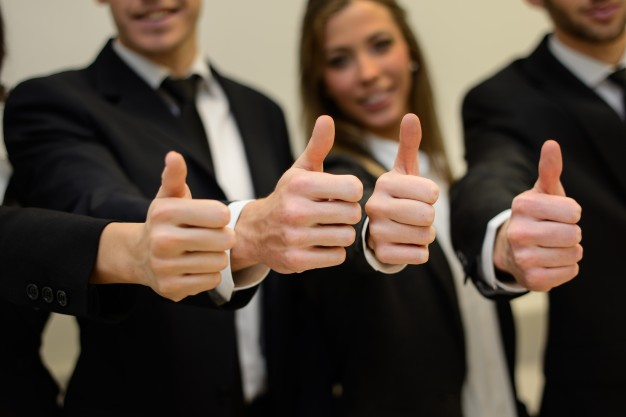thumbsup: (279, 114, 364, 274), (145, 151, 235, 296), (505, 139, 583, 291), (365, 113, 439, 264)
